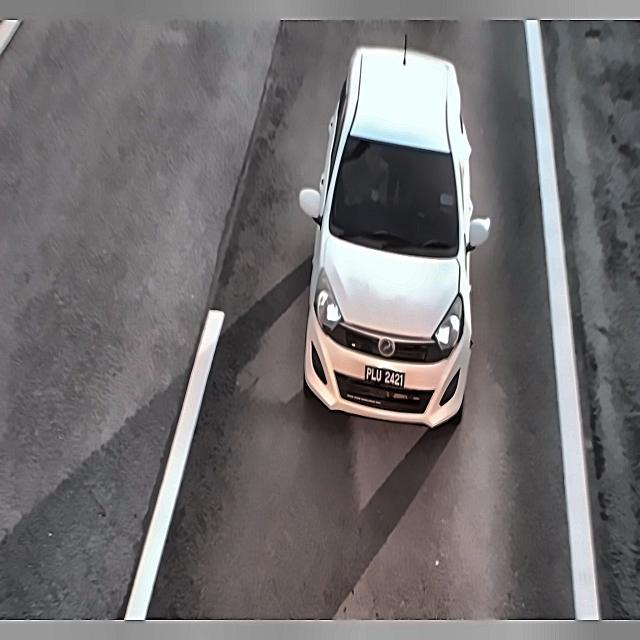car: (361, 352, 411, 394)
